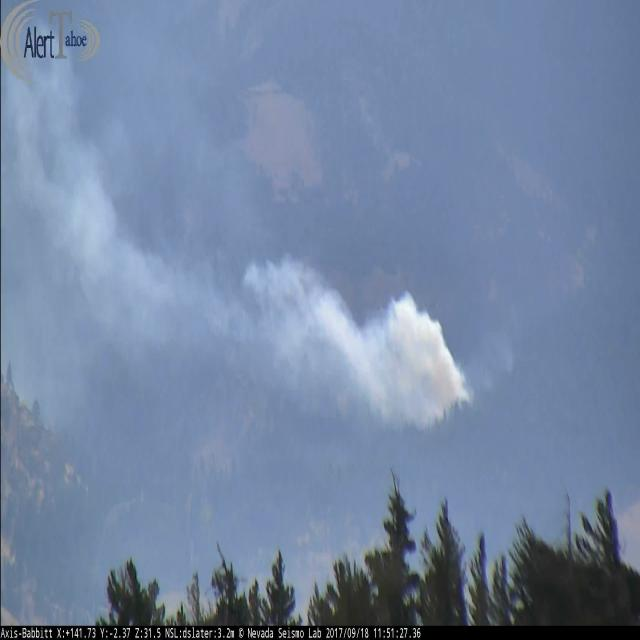smoke: (0, 82, 230, 370), (243, 261, 479, 416)
